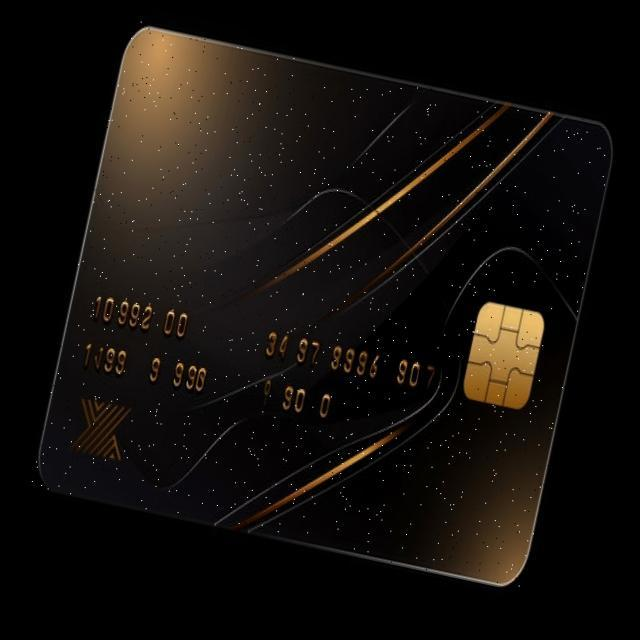payment_card: (34, 24, 614, 588)
